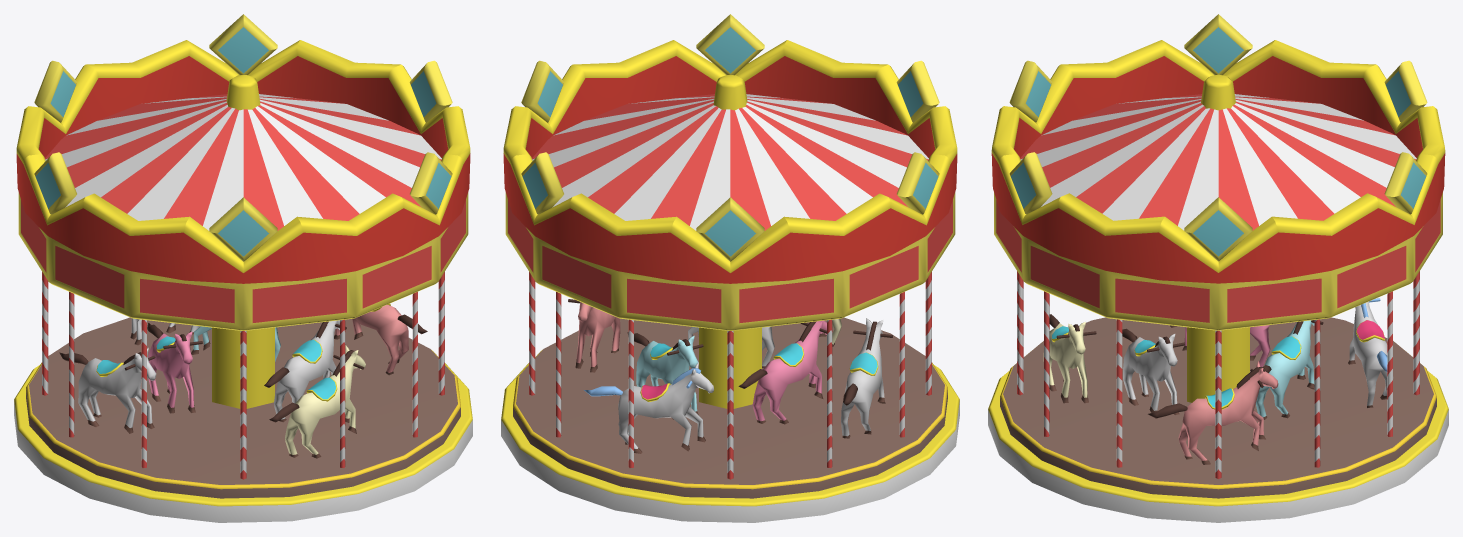
The model's file is attraction_014.gltf.
The picture shows the model from 3 angles, left to right: view 1: azimuth 30°, elevation 25°; view 2: azimuth 150°, elevation 25°; view 3: azimuth 270°, elevation 25°; orthographic projection.
Visible parts, largest first — view 1: attraction_14_002, attraction_14_001; view 2: attraction_14_002, attraction_14_001; view 3: attraction_14_002, attraction_14_001.
Boxes of the visible parts, <box> form: attraction_14_002: <box>16,14,470,498</box>; attraction_14_001: <box>14,363,472,522</box>; attraction_14_002: <box>503,14,957,498</box>; attraction_14_001: <box>501,363,959,522</box>; attraction_14_002: <box>991,14,1445,498</box>; attraction_14_001: <box>988,371,1448,522</box>.
Size of the model in its own units: 6.47 by 5.37 by 6.47.
1 material, 1 textured.
